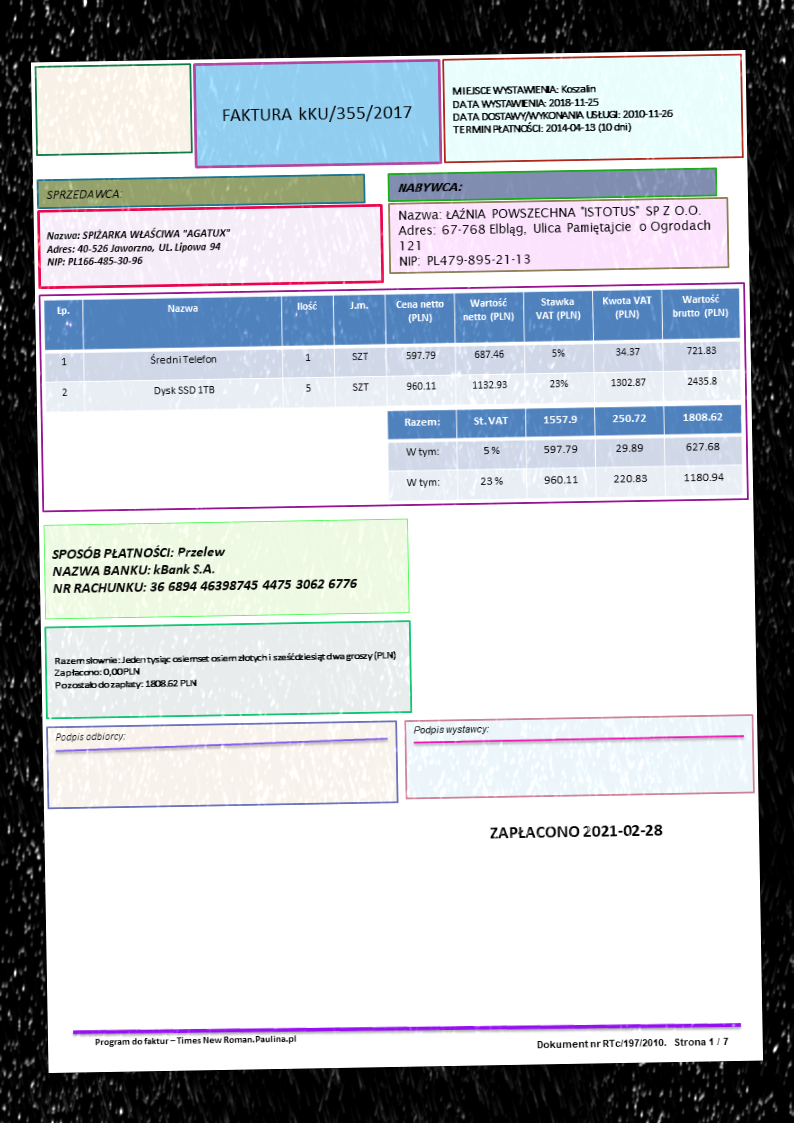Table: (42, 287, 742, 413), (386, 403, 745, 503)
TextBox: (394, 201, 712, 269), (48, 537, 359, 600), (52, 646, 401, 693), (450, 77, 674, 138), (44, 225, 233, 268), (220, 101, 414, 127), (535, 1033, 733, 1052), (91, 1032, 299, 1050), (488, 820, 665, 841), (43, 183, 124, 203), (412, 721, 492, 739), (52, 727, 127, 745), (396, 177, 464, 196)
